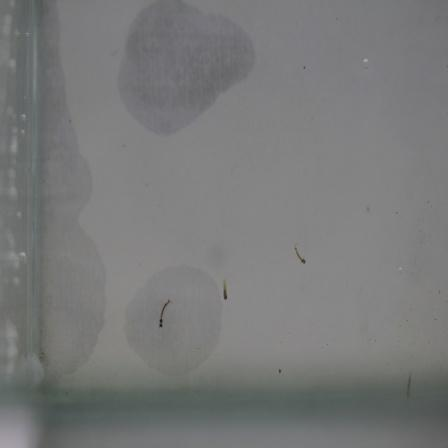Jentik-Nyamuk: (154, 296, 175, 331), (289, 241, 310, 269), (219, 274, 233, 303)
